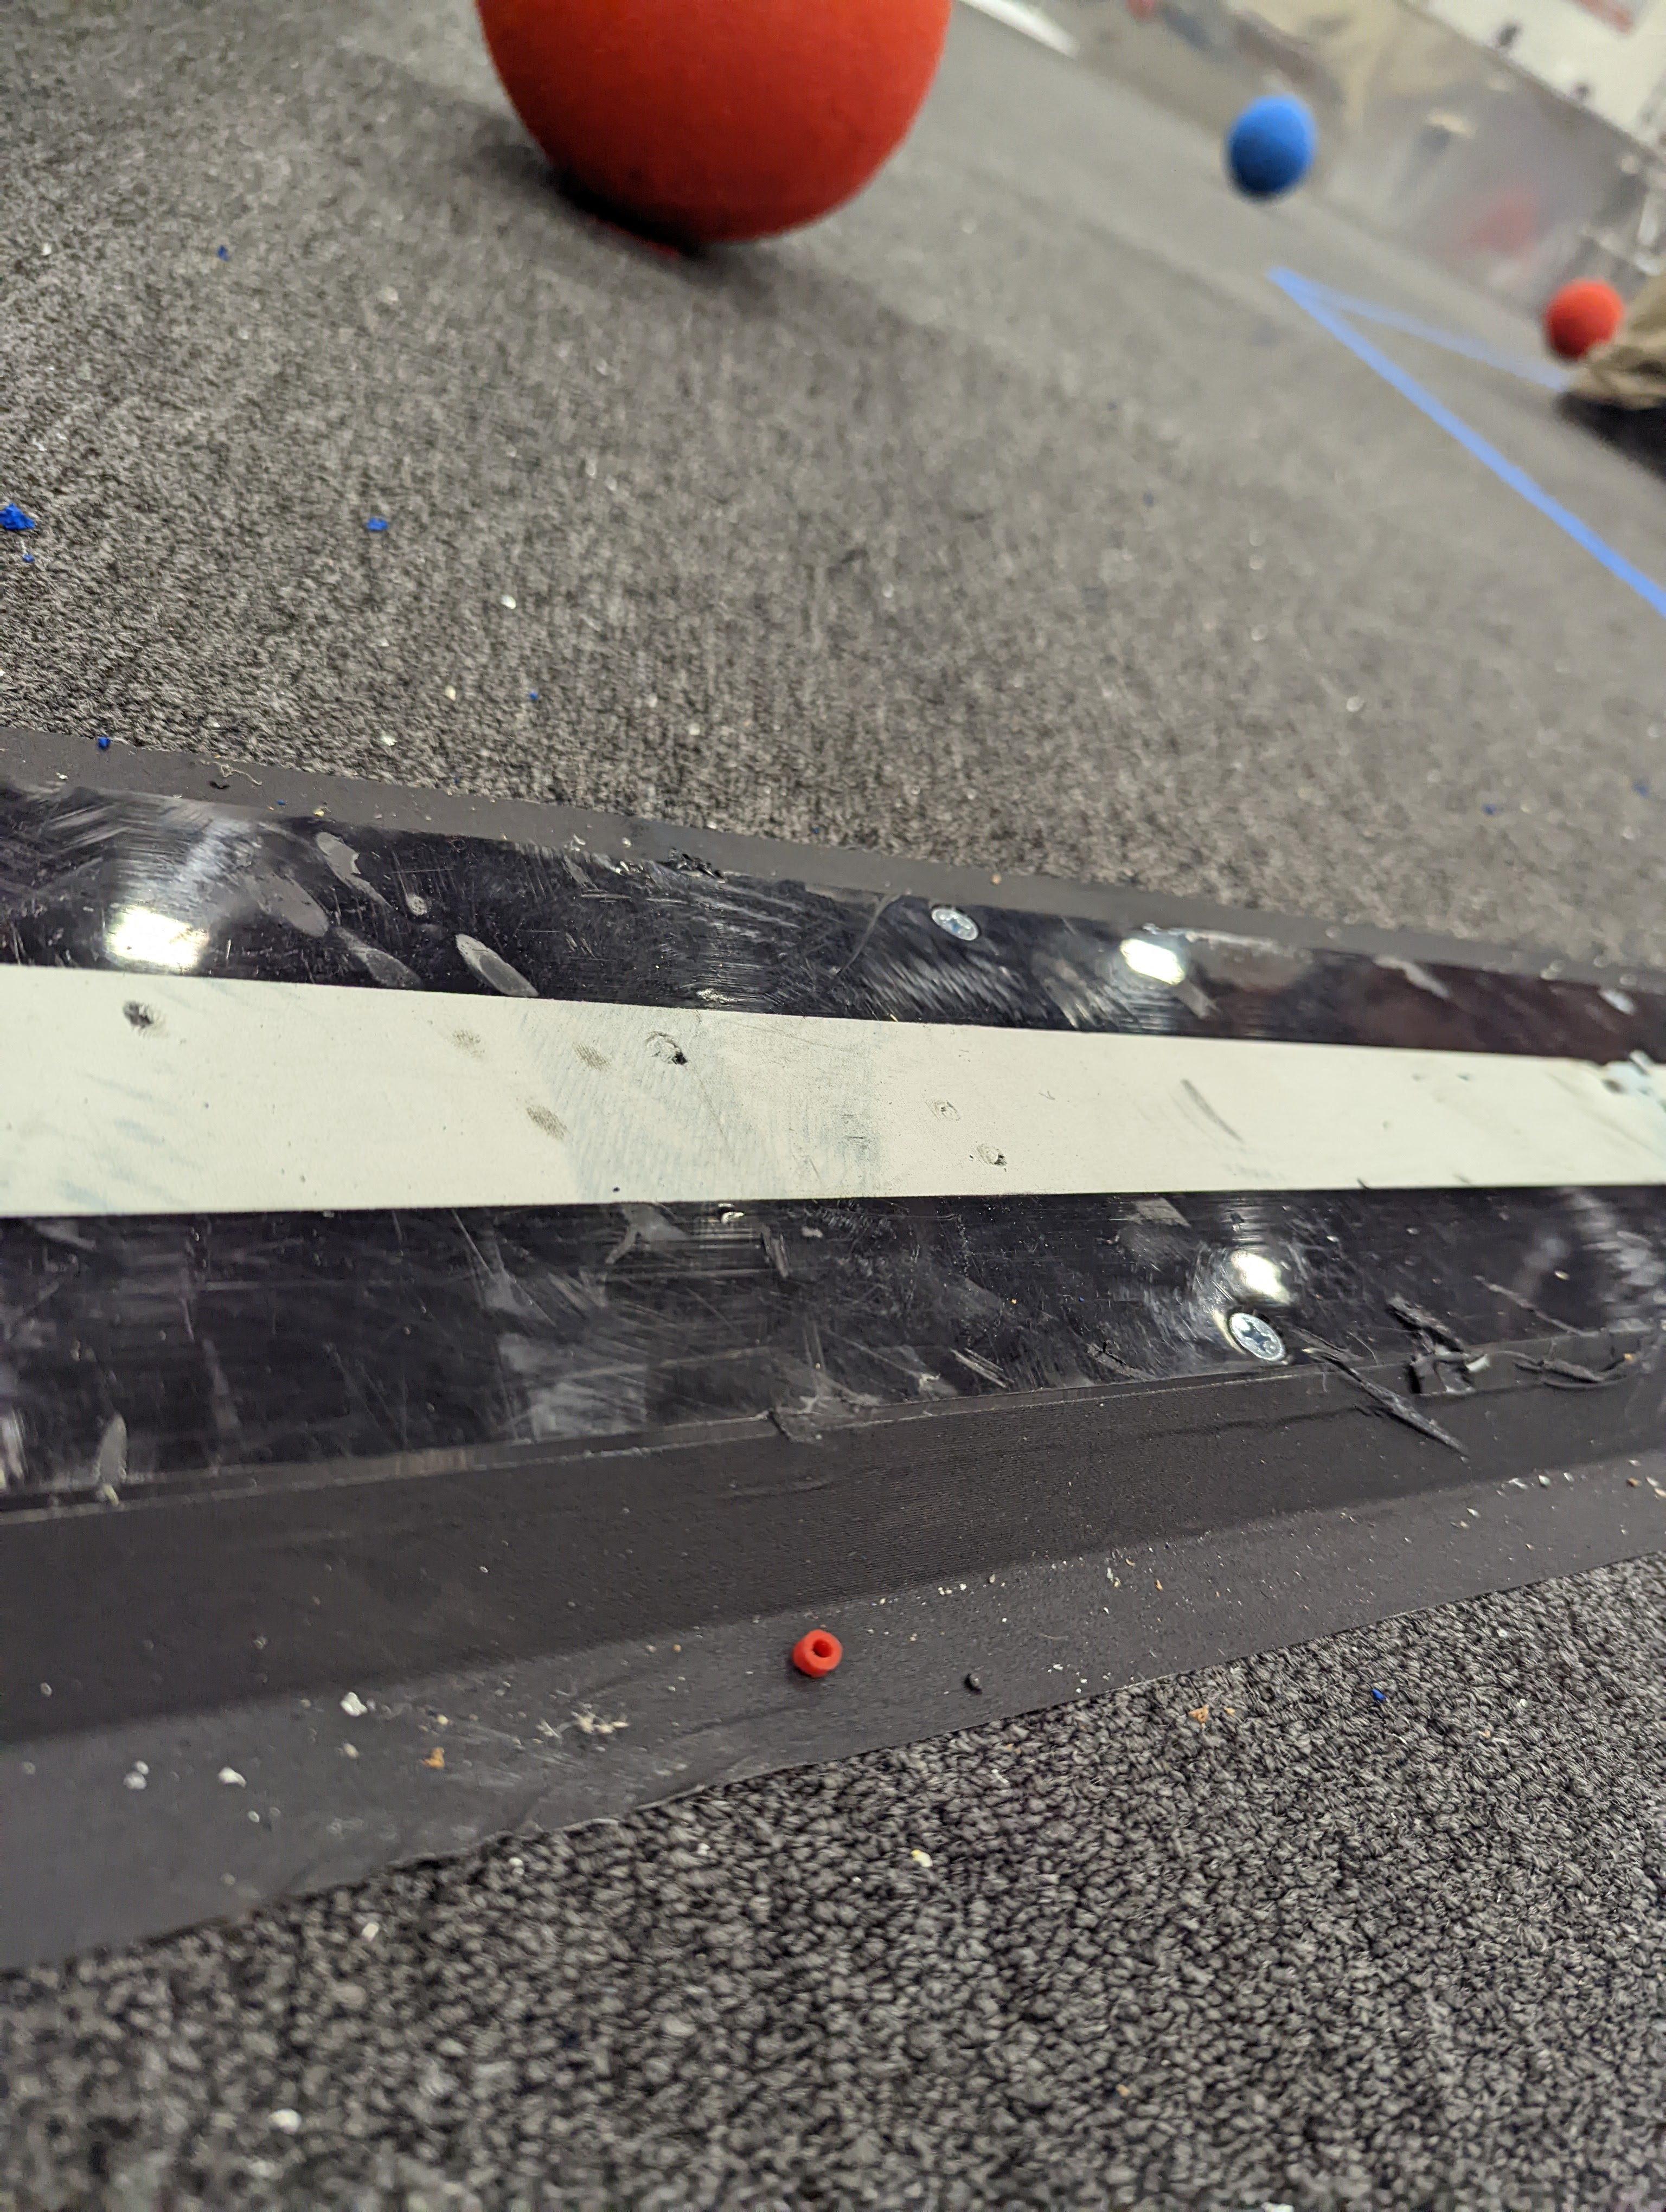blue_cargo: (1225, 89, 1318, 210)
blue_tape_corners: (1248, 233, 1383, 355)
red_cargo: (1547, 276, 1622, 357)
terminal_base_corner: (1036, 12, 1109, 84)
